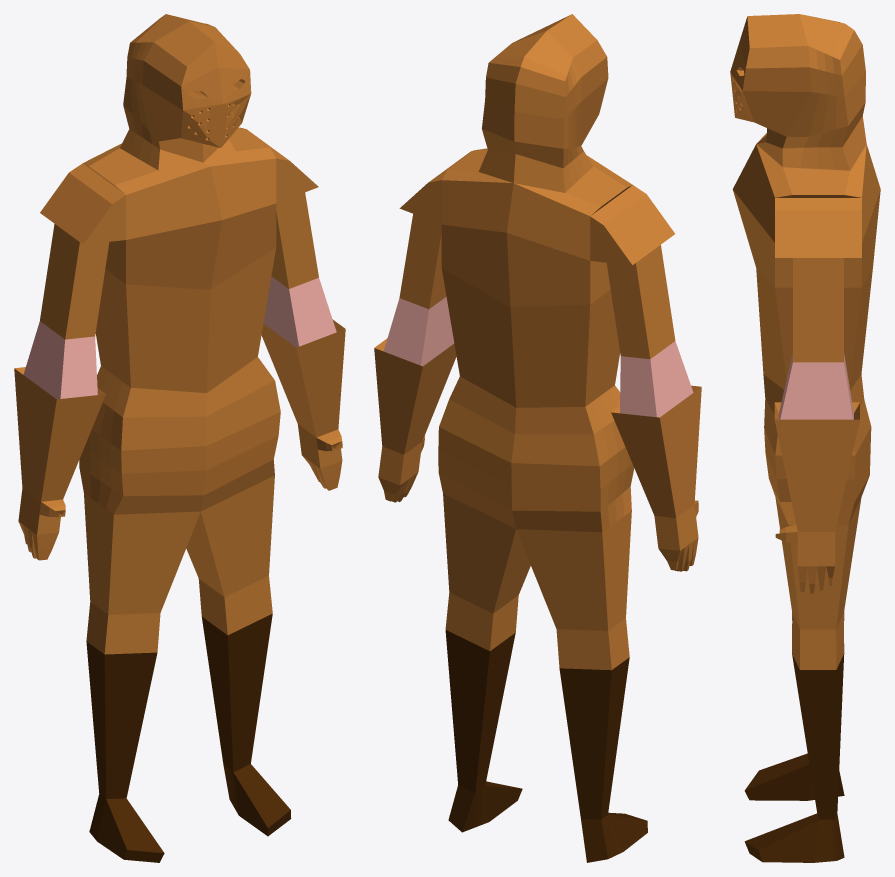
The model's file is ranged.fbx.
3 renders of one model, left to right at view 1: azimuth 30°, elevation 25°; view 2: azimuth 150°, elevation 25°; view 3: azimuth 270°, elevation 25°, orthographic.
Parts seen in each view (by area): view 1: Cube; view 2: Cube; view 3: Cube.
Boxes of the visible parts, box(x1,y1,x2,y2) form: Cube: box(14, 14, 345, 862); Cube: box(374, 14, 701, 862); Cube: box(730, 14, 880, 862).
Bounding box in the file's own units: 68.88 × 175 × 29.31.
